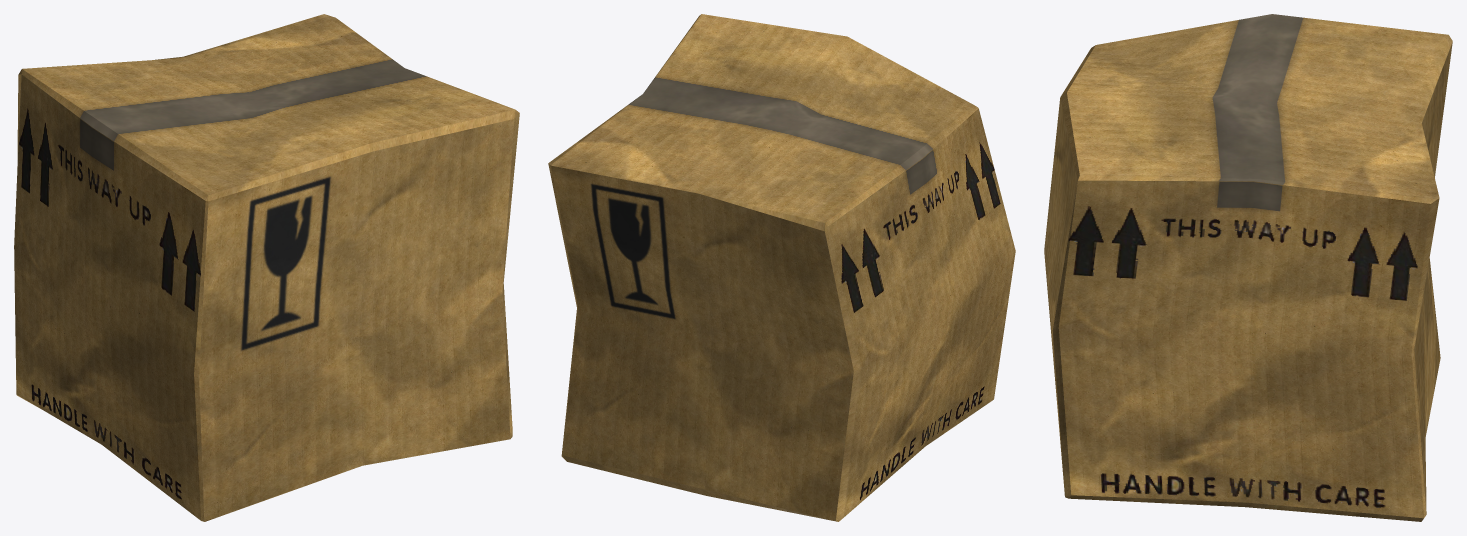
File: CardboardBoxB_Dirty.fbx
The picture shows the model from 3 angles, left to right: view 1: azimuth 30°, elevation 25°; view 2: azimuth 150°, elevation 25°; view 3: azimuth 270°, elevation 25°; orthographic projection. The views are drawn at different scales.
Visible parts, largest first — view 1: CardboardBoxB_Dirty; view 2: CardboardBoxB_Dirty; view 3: CardboardBoxB_Dirty.
Part boxes in pixels (box(x1,y1,x2,y2)): CardboardBoxB_Dirty: box(14, 14, 519, 521); CardboardBoxB_Dirty: box(548, 14, 1015, 521); CardboardBoxB_Dirty: box(1044, 14, 1452, 521).
Bounding box in the file's own units: 28.26 × 27.97 × 28.26.
